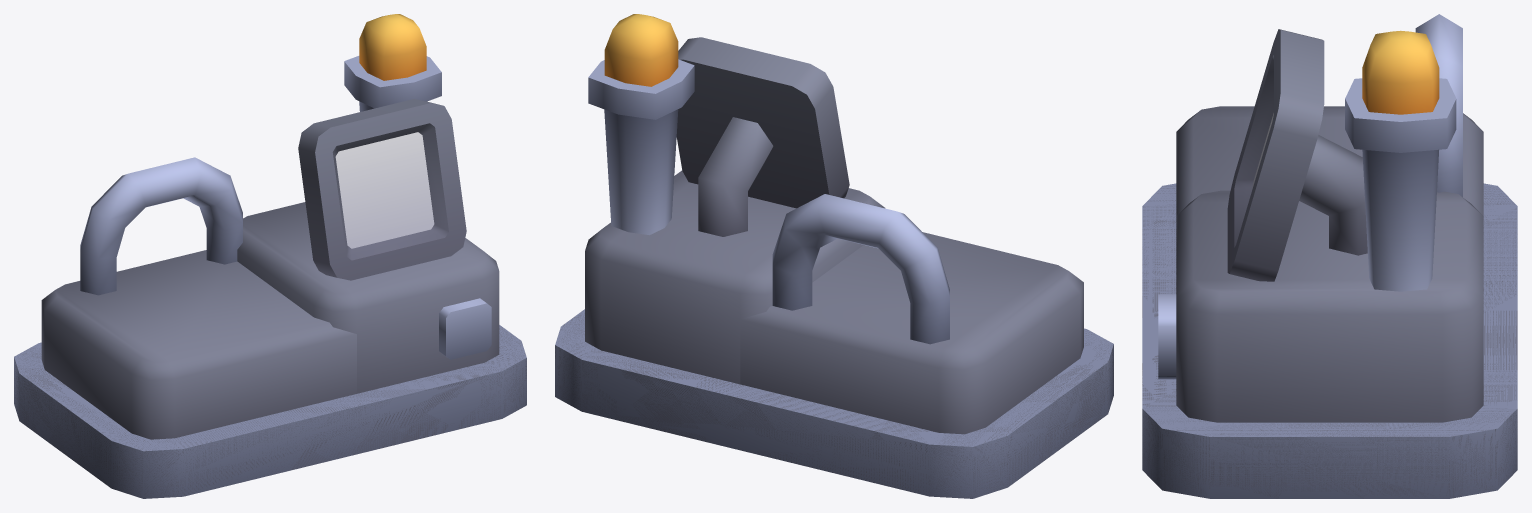
File: cash-register-self.glb
3 renders of one model, left to right at view 1: azimuth 30°, elevation 25°; view 2: azimuth 150°, elevation 25°; view 3: azimuth 270°, elevation 25°, orthographic. The views are drawn at different scales.
Visible parts, largest first — view 1: cash-register-self; view 2: cash-register-self; view 3: cash-register-self.
Boxes of the visible parts, <box> form: cash-register-self: <box>14,14,526,498</box>; cash-register-self: <box>555,14,1113,498</box>; cash-register-self: <box>1142,14,1517,498</box>.
Size of the model in its own units: 0.9 by 0.6928 by 0.55.
1 material, 1 textured.
